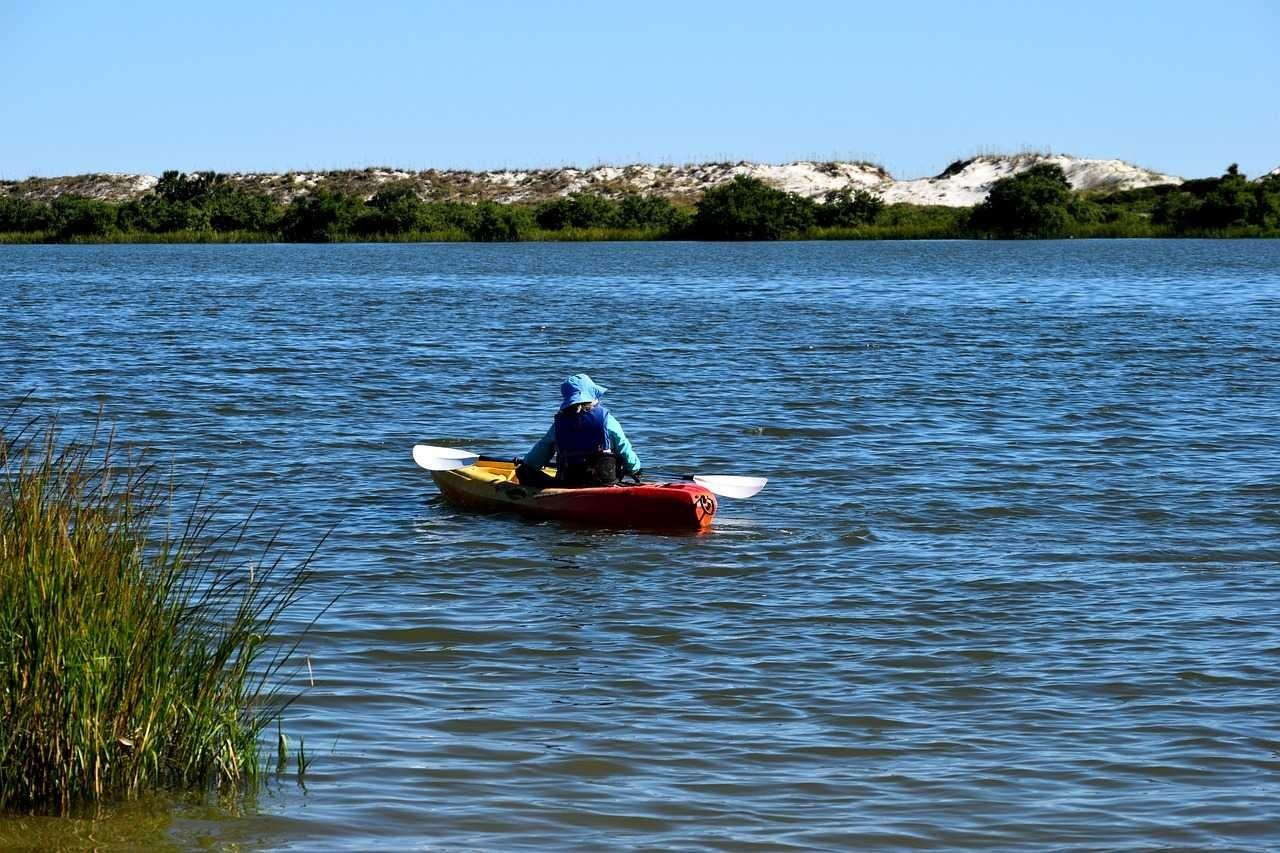kayak: (410, 443, 768, 528)
